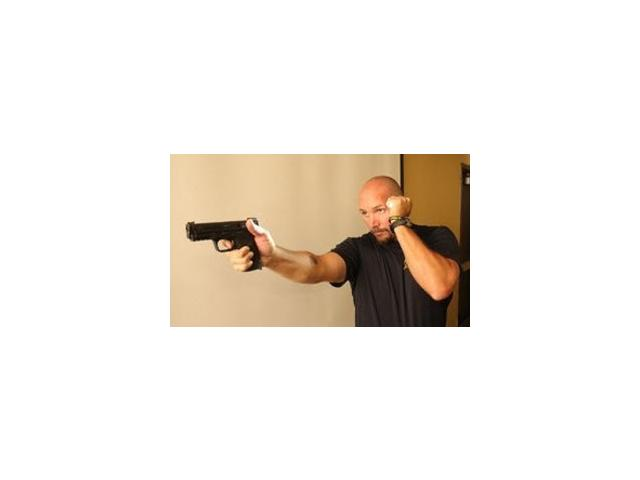pistol: (186, 217, 265, 277)
